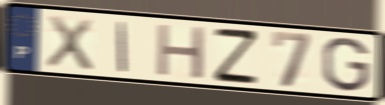7: (269, 30, 314, 90)
G: (320, 35, 372, 94)
H: (155, 21, 208, 82)
I: (116, 19, 129, 75)
X: (43, 12, 95, 73)
Z: (212, 26, 259, 85)
